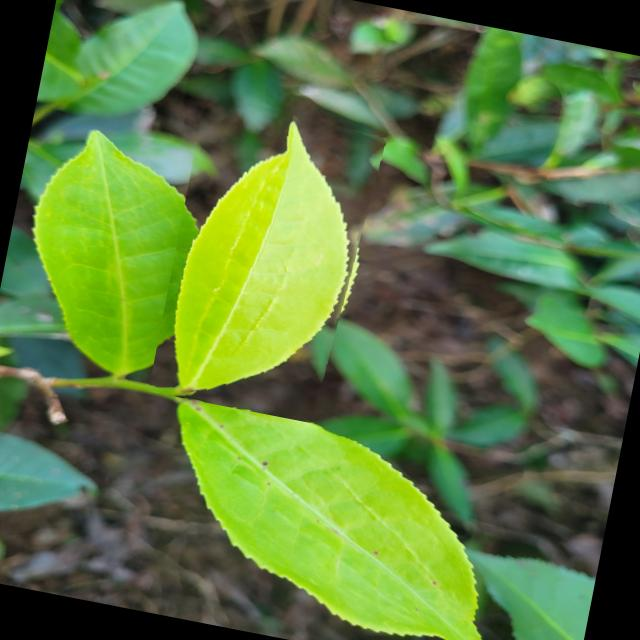Catagory A(1-2 days): (148, 92, 389, 427)
